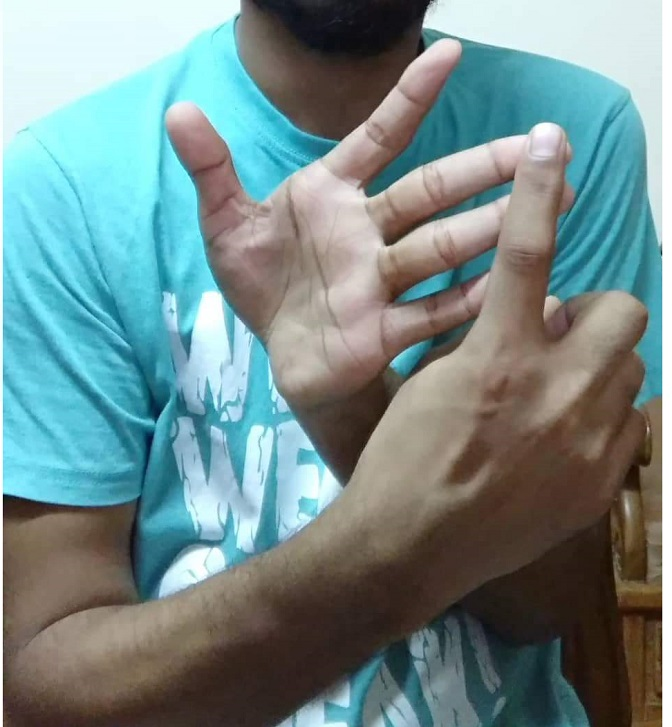u: (183, 46, 587, 412)
